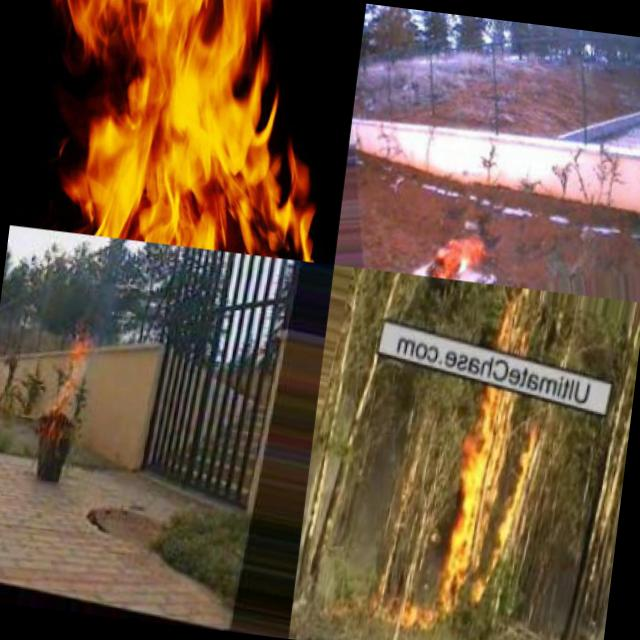fire: (35, 0, 353, 262), (382, 382, 551, 640), (42, 330, 100, 443), (423, 221, 492, 282)
